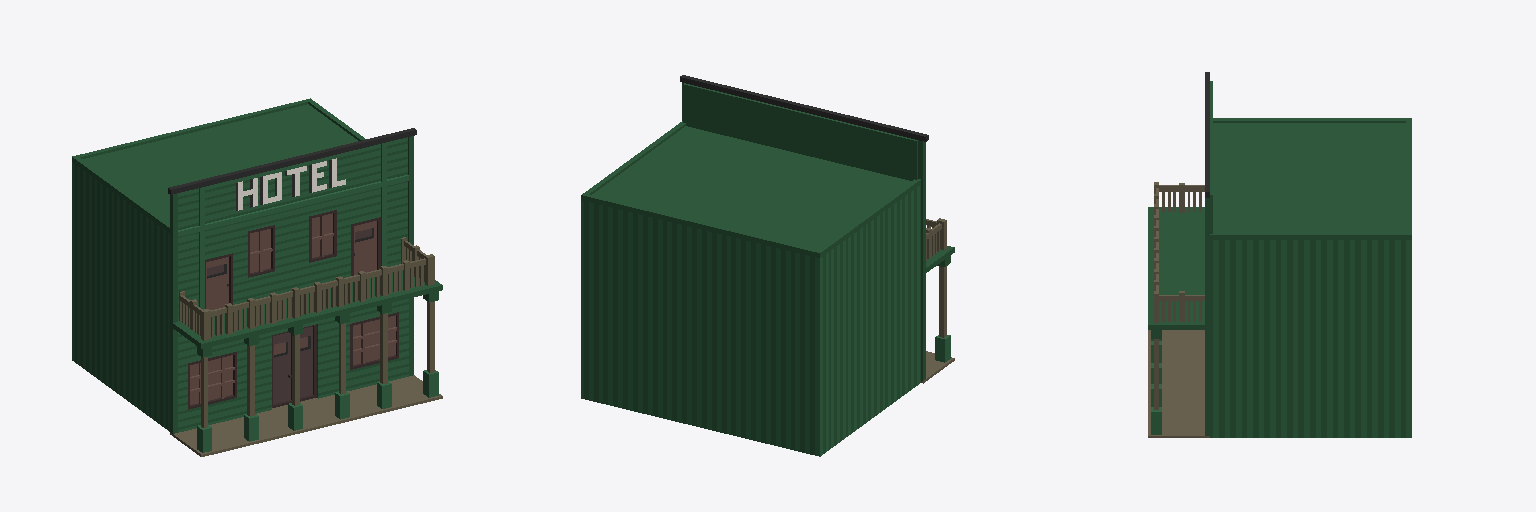
3 renders of one model, left to right at view 1: azimuth 30°, elevation 25°; view 2: azimuth 150°, elevation 25°; view 3: azimuth 270°, elevation 25°, orthographic.
Parts seen in each view (by area): view 1: default; view 2: default; view 3: default.
Part boxes in pixels (bbox=[...]): default: bbox=[72, 98, 442, 456]; default: bbox=[581, 75, 954, 456]; default: bbox=[1148, 72, 1411, 437].
Size of the model in its own units: 100 by 96 by 93.
Materials: 1 (1 with a texture image).